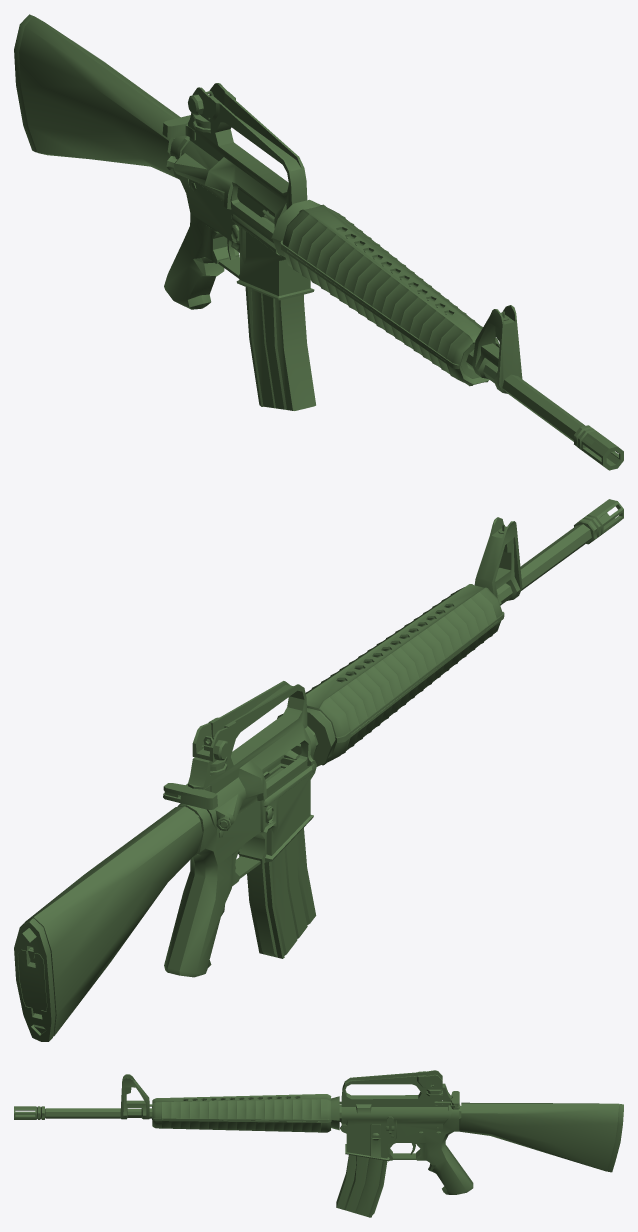
Rendered from m16_player_prop.glb.
3 renders of one model, top to bottom at view 1: azimuth 30°, elevation 25°; view 2: azimuth 150°, elevation 25°; view 3: azimuth 270°, elevation 25°, orthographic. The views are drawn at different scales.
Visible parts, largest first — view 1: M16A2 Toy Prop; view 2: M16A2 Toy Prop; view 3: M16A2 Toy Prop.
Boxes of the visible parts, bbox=[...] form: M16A2 Toy Prop: bbox=[14, 14, 623, 470]; M16A2 Toy Prop: bbox=[14, 499, 623, 1041]; M16A2 Toy Prop: bbox=[14, 1070, 623, 1217].
Size of the model in its own units: 0.051 by 0.2051 by 0.7979.
